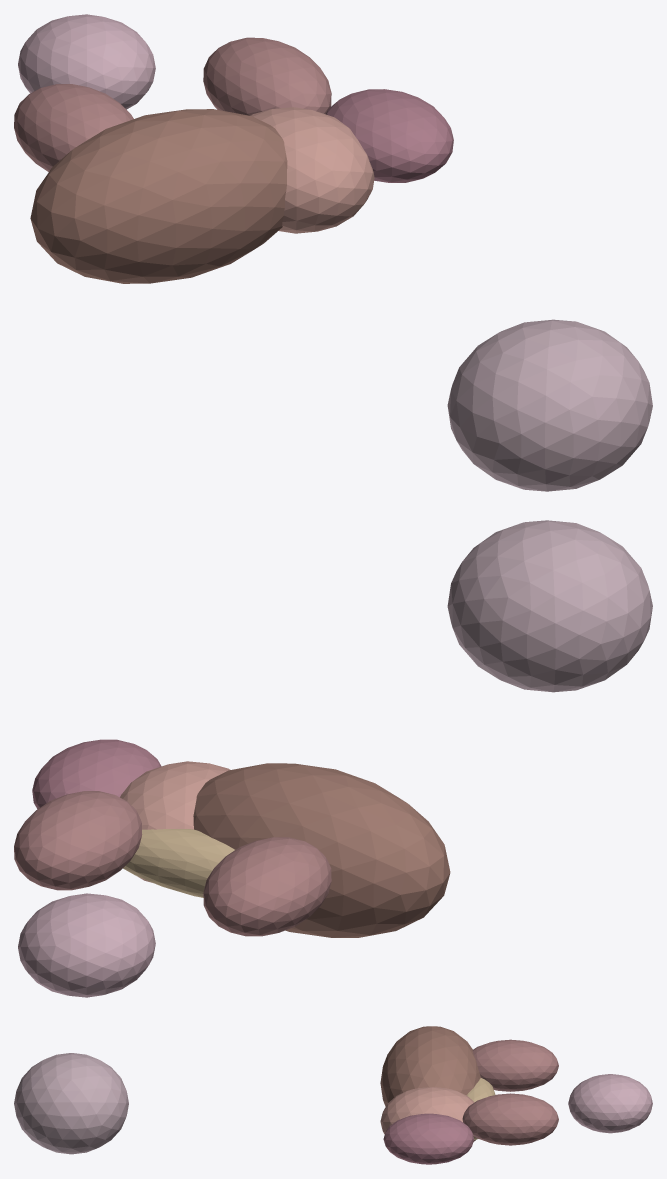
The model's file is organs-g3-medium.glb.
3 views of the same model, one above another, from view 1: azimuth 30°, elevation 25°; view 2: azimuth 150°, elevation 25°; view 3: azimuth 270°, elevation 25° (orthographic). The views are drawn at different scales.
Visible parts, largest first — view 1: liver, brain, stomach, bladder, spleen, right_kidney, left_kidney; view 2: brain, liver, bladder, left_kidney, right_kidney, spleen, pancreas_proxy, stomach; view 3: brain, liver, bladder, right_kidney, spleen, left_kidney, stomach, pancreas_proxy.
Boxes of the visible parts, x1,y1,x2,y2 form: liver: (30, 109, 287, 283); brain: (447, 319, 652, 491); stomach: (250, 107, 374, 233); bladder: (18, 14, 155, 109); spleen: (326, 89, 453, 182); right_kidney: (203, 37, 331, 115); left_kidney: (14, 84, 133, 171); brain: (447, 520, 652, 692); liver: (193, 763, 450, 937); bladder: (18, 893, 155, 997); left_kidney: (203, 837, 331, 936); right_kidney: (14, 791, 142, 890); spleen: (32, 739, 161, 809); pancreas_proxy: (123, 829, 234, 897); stomach: (120, 761, 230, 882); brain: (14, 1053, 128, 1154); liver: (380, 1026, 480, 1106); bladder: (568, 1074, 652, 1133); right_kidney: (462, 1093, 558, 1145); spleen: (383, 1113, 474, 1164); left_kidney: (472, 1039, 558, 1091); stomach: (380, 1087, 475, 1141); pancreas_proxy: (466, 1078, 495, 1139).
Size of the model in its own units: 1.78 by 0.64 by 4.22.
